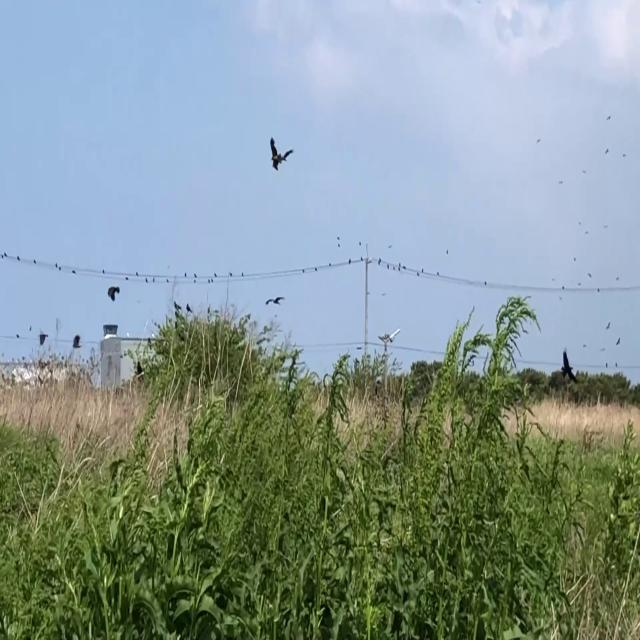bird: (268, 132, 294, 178), (266, 288, 284, 310), (108, 278, 119, 304)
